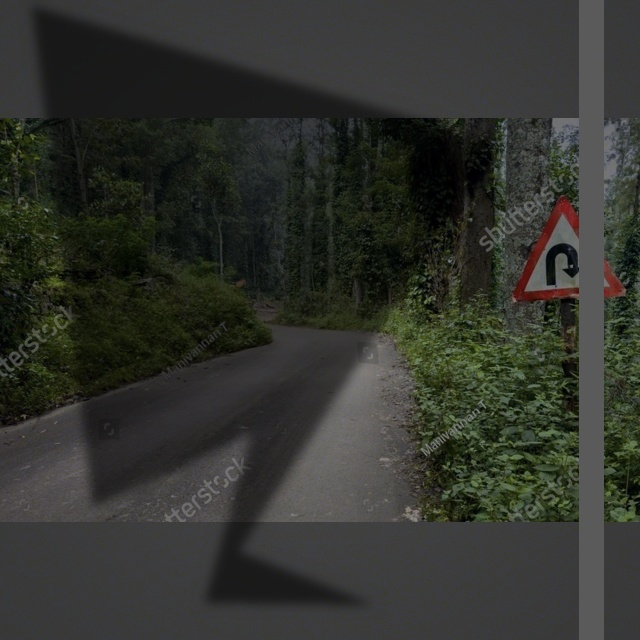Right_Hair_Pin_Bend: (514, 200, 622, 301)
